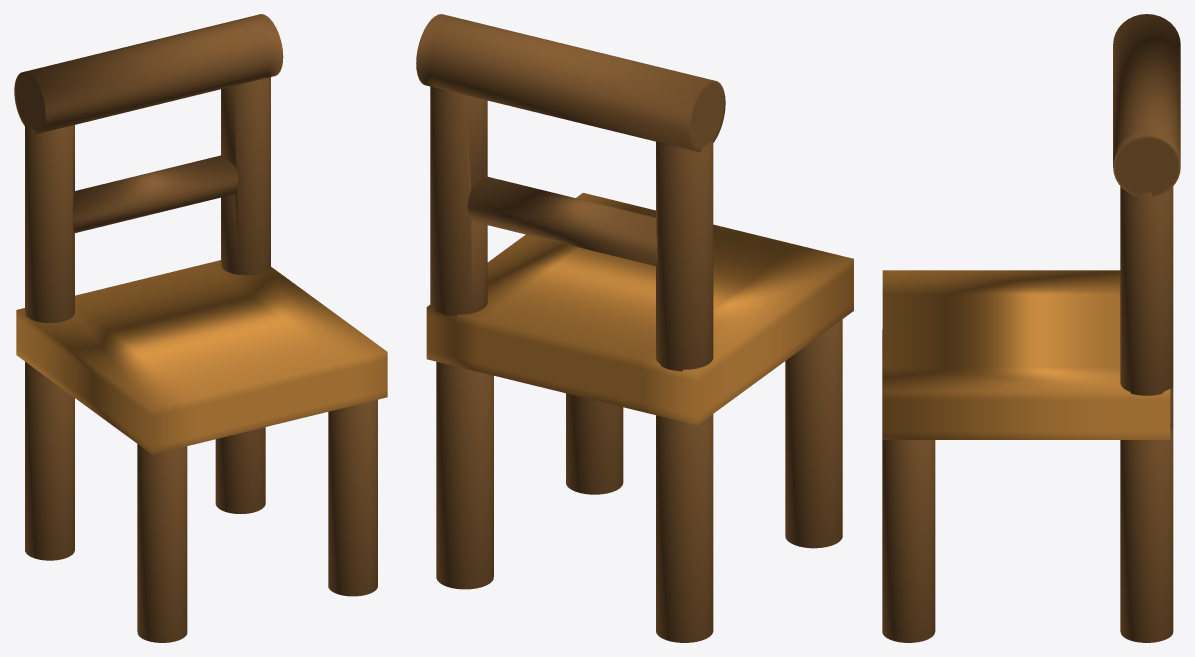
The model's file is Chair.fbx.
The picture shows the model from 3 angles, left to right: view 1: azimuth 30°, elevation 25°; view 2: azimuth 150°, elevation 25°; view 3: azimuth 270°, elevation 25°; orthographic projection. The views are drawn at different scales.
Visible parts, largest first — view 1: Cylinder.004; view 2: Cylinder.004; view 3: Cylinder.004.
Boxes of the visible parts, bbox=[...] form: Cylinder.004: bbox=[14, 14, 387, 642]; Cylinder.004: bbox=[416, 14, 853, 642]; Cylinder.004: bbox=[882, 14, 1180, 642].
Bounding box in the file's own units: 279 × 534 × 284.
